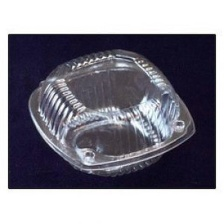plastic_box: (20, 41, 200, 183)
